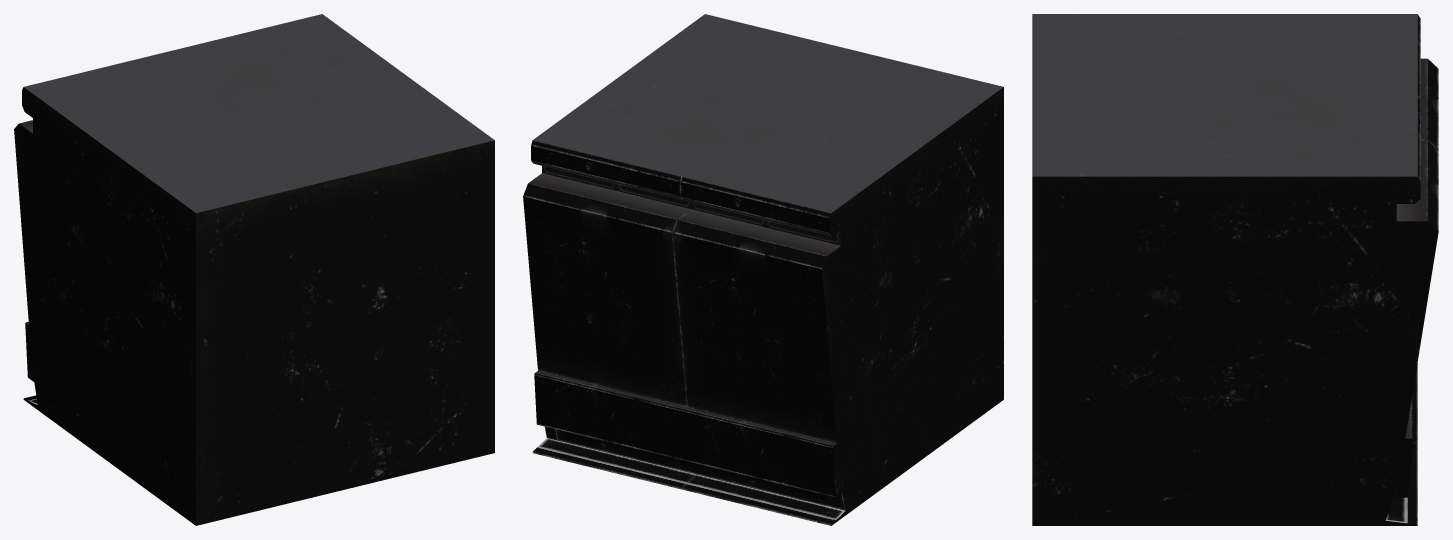
File: SM_Wall_Floor_A.FBX
The picture shows the model from 3 angles, left to right: view 1: azimuth 30°, elevation 25°; view 2: azimuth 150°, elevation 25°; view 3: azimuth 270°, elevation 25°; orthographic projection. The views are drawn at different scales.
Visible parts, largest first — view 1: SM_Wall_Floor_A; view 2: SM_Wall_Floor_A; view 3: SM_Wall_Floor_A.
Part boxes in pixels (x1=…): SM_Wall_Floor_A: x1=14, y1=14, x2=494, y2=525; SM_Wall_Floor_A: x1=523, y1=14, x2=1003, y2=525; SM_Wall_Floor_A: x1=1032, y1=14, x2=1438, y2=525.
Bounding box in the file's own units: 400 × 400 × 422.
Materials: 2 (2 with a texture image).
